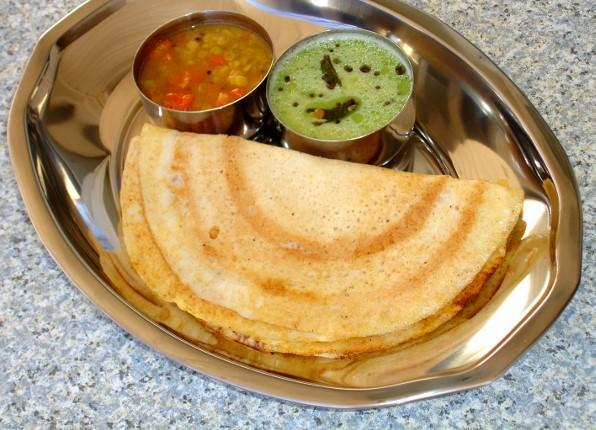Dosa: (120, 124, 523, 358)
